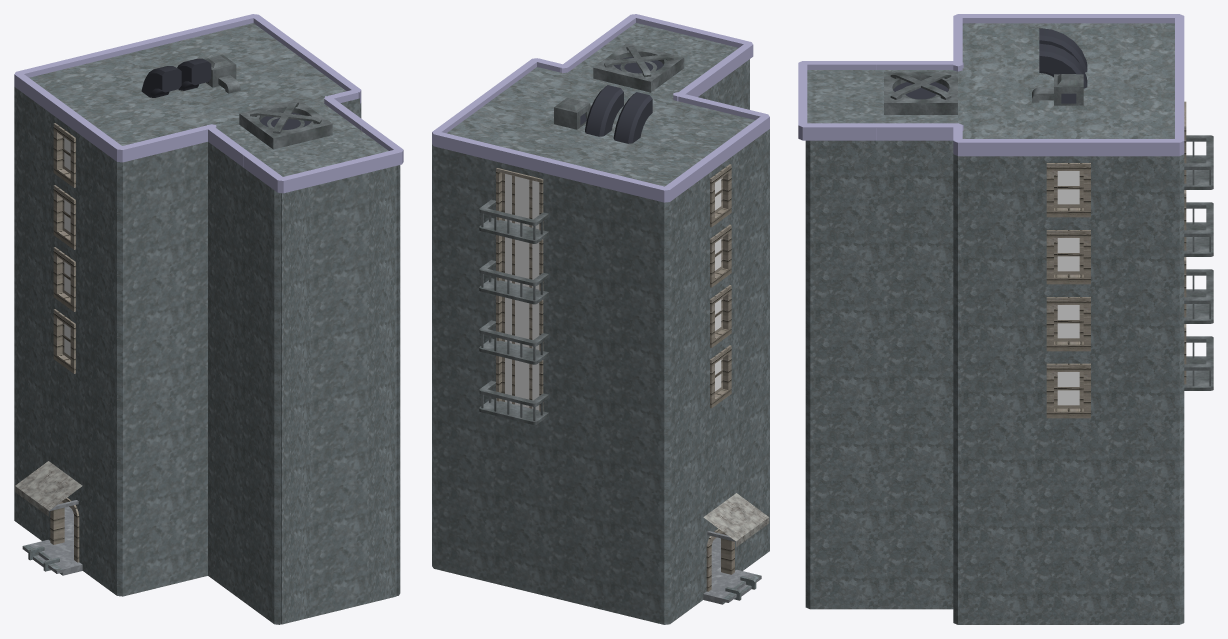
Rendered from Foyer 2.fbx.
3 views of the same model, side by side, from view 1: azimuth 30°, elevation 25°; view 2: azimuth 150°, elevation 25°; view 3: azimuth 270°, elevation 25° (orthographic). The views are drawn at different scales.
Parts seen in each view (by area): view 1: mergedBlocks; view 2: mergedBlocks; view 3: mergedBlocks.
Part boxes in pixels (x1,y1,x2,y2): mergedBlocks: [14, 14, 403, 624]; mergedBlocks: [432, 14, 769, 624]; mergedBlocks: [798, 14, 1213, 624].
Size of the model in its own units: 47.22 by 76.65 by 56.25.
13 materials, 8 textured.
